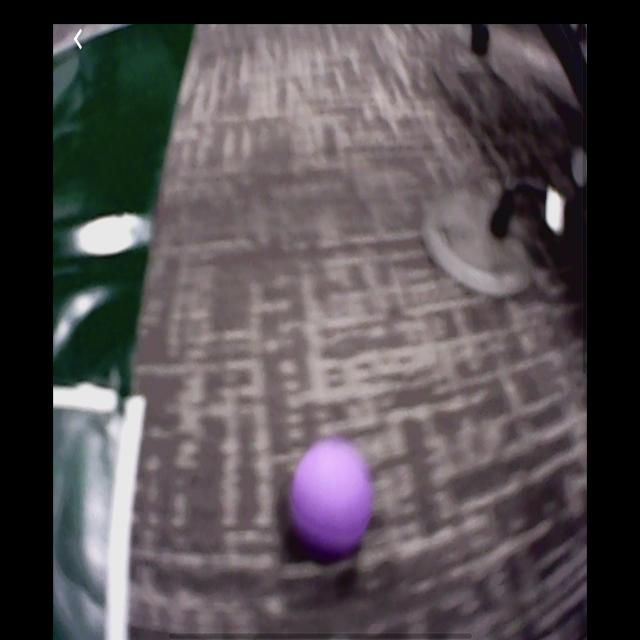ball: (294, 445, 372, 551)
